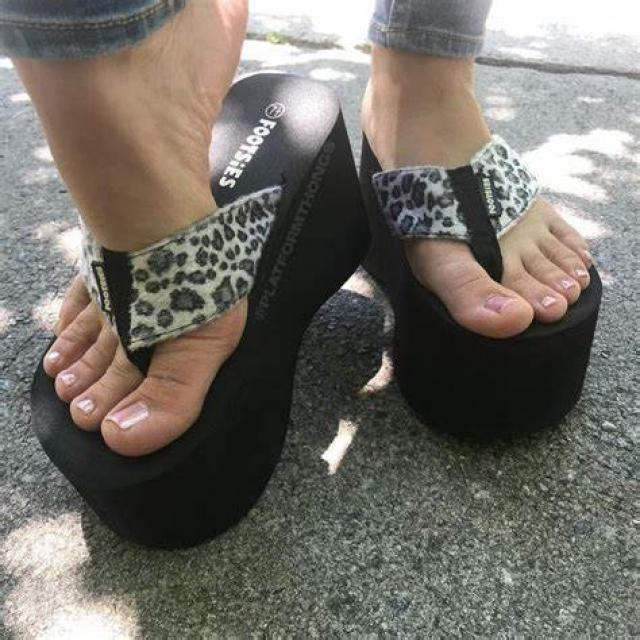No_Shoe: (38, 0, 248, 461), (359, 79, 624, 346)
